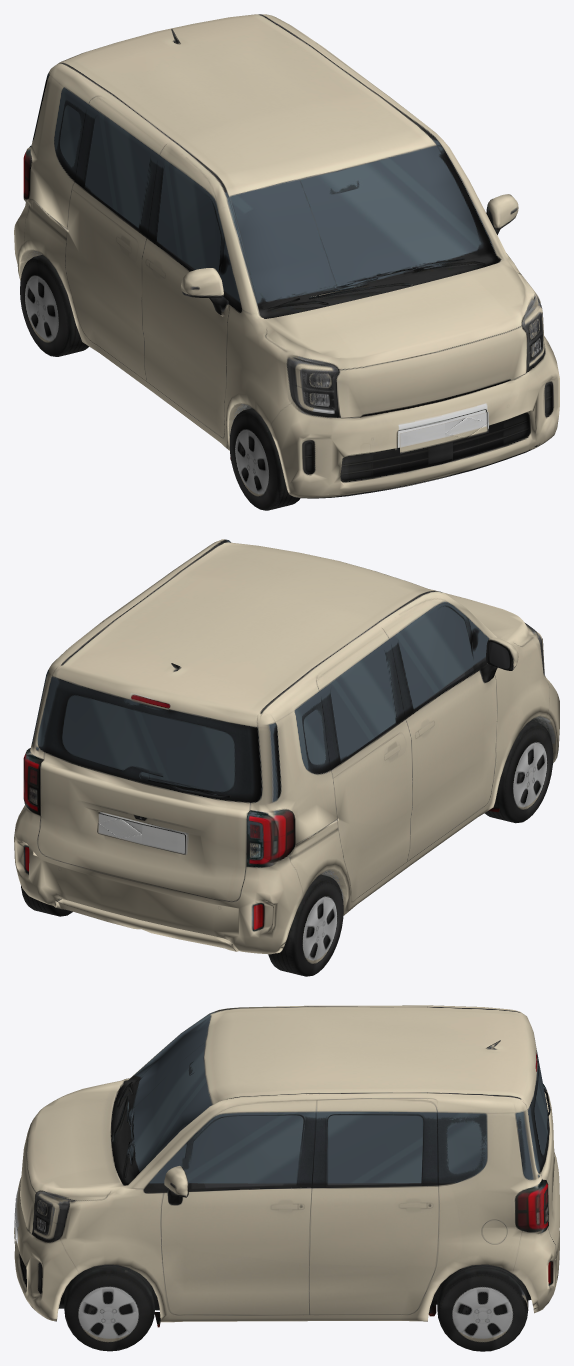
3 views of the same model, one above another, from view 1: azimuth 30°, elevation 25°; view 2: azimuth 150°, elevation 25°; view 3: azimuth 270°, elevation 25° (orthographic). The views are drawn at different scales.
Visible parts, largest first — view 1: tripo_node_c7bd52c8-4662-4a28-b545-ef983f02e31b; view 2: tripo_node_c7bd52c8-4662-4a28-b545-ef983f02e31b; view 3: tripo_node_c7bd52c8-4662-4a28-b545-ef983f02e31b.
Boxes of the visible parts, <box> form: tripo_node_c7bd52c8-4662-4a28-b545-ef983f02e31b: <box>14,14,559,510</box>; tripo_node_c7bd52c8-4662-4a28-b545-ef983f02e31b: <box>14,539,559,976</box>; tripo_node_c7bd52c8-4662-4a28-b545-ef983f02e31b: <box>14,1005,559,1351</box>.
Bounding box in the file's own units: 0.6274 × 0.5112 × 0.9995.
Materials: 1 (1 with a texture image).
